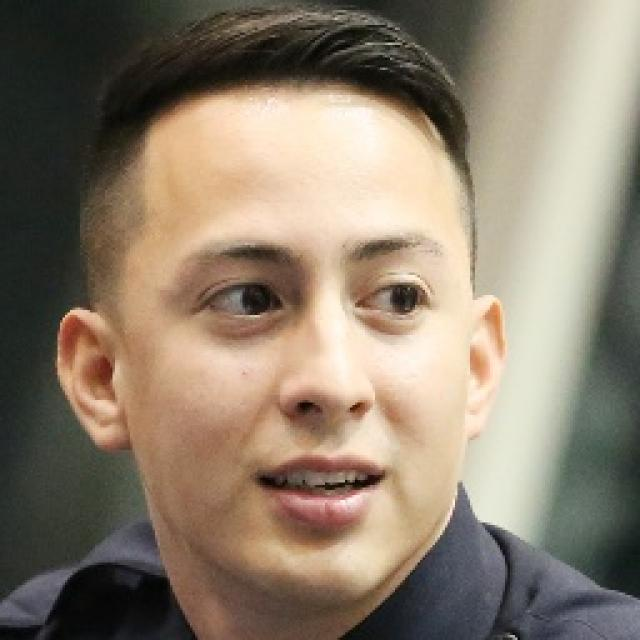earlobe: (88, 409, 130, 452), (465, 397, 488, 440)
eye: (197, 278, 286, 320), (358, 280, 429, 319)
nose: (282, 401, 375, 448)
wholeear: (56, 306, 131, 451), (466, 296, 510, 440)
